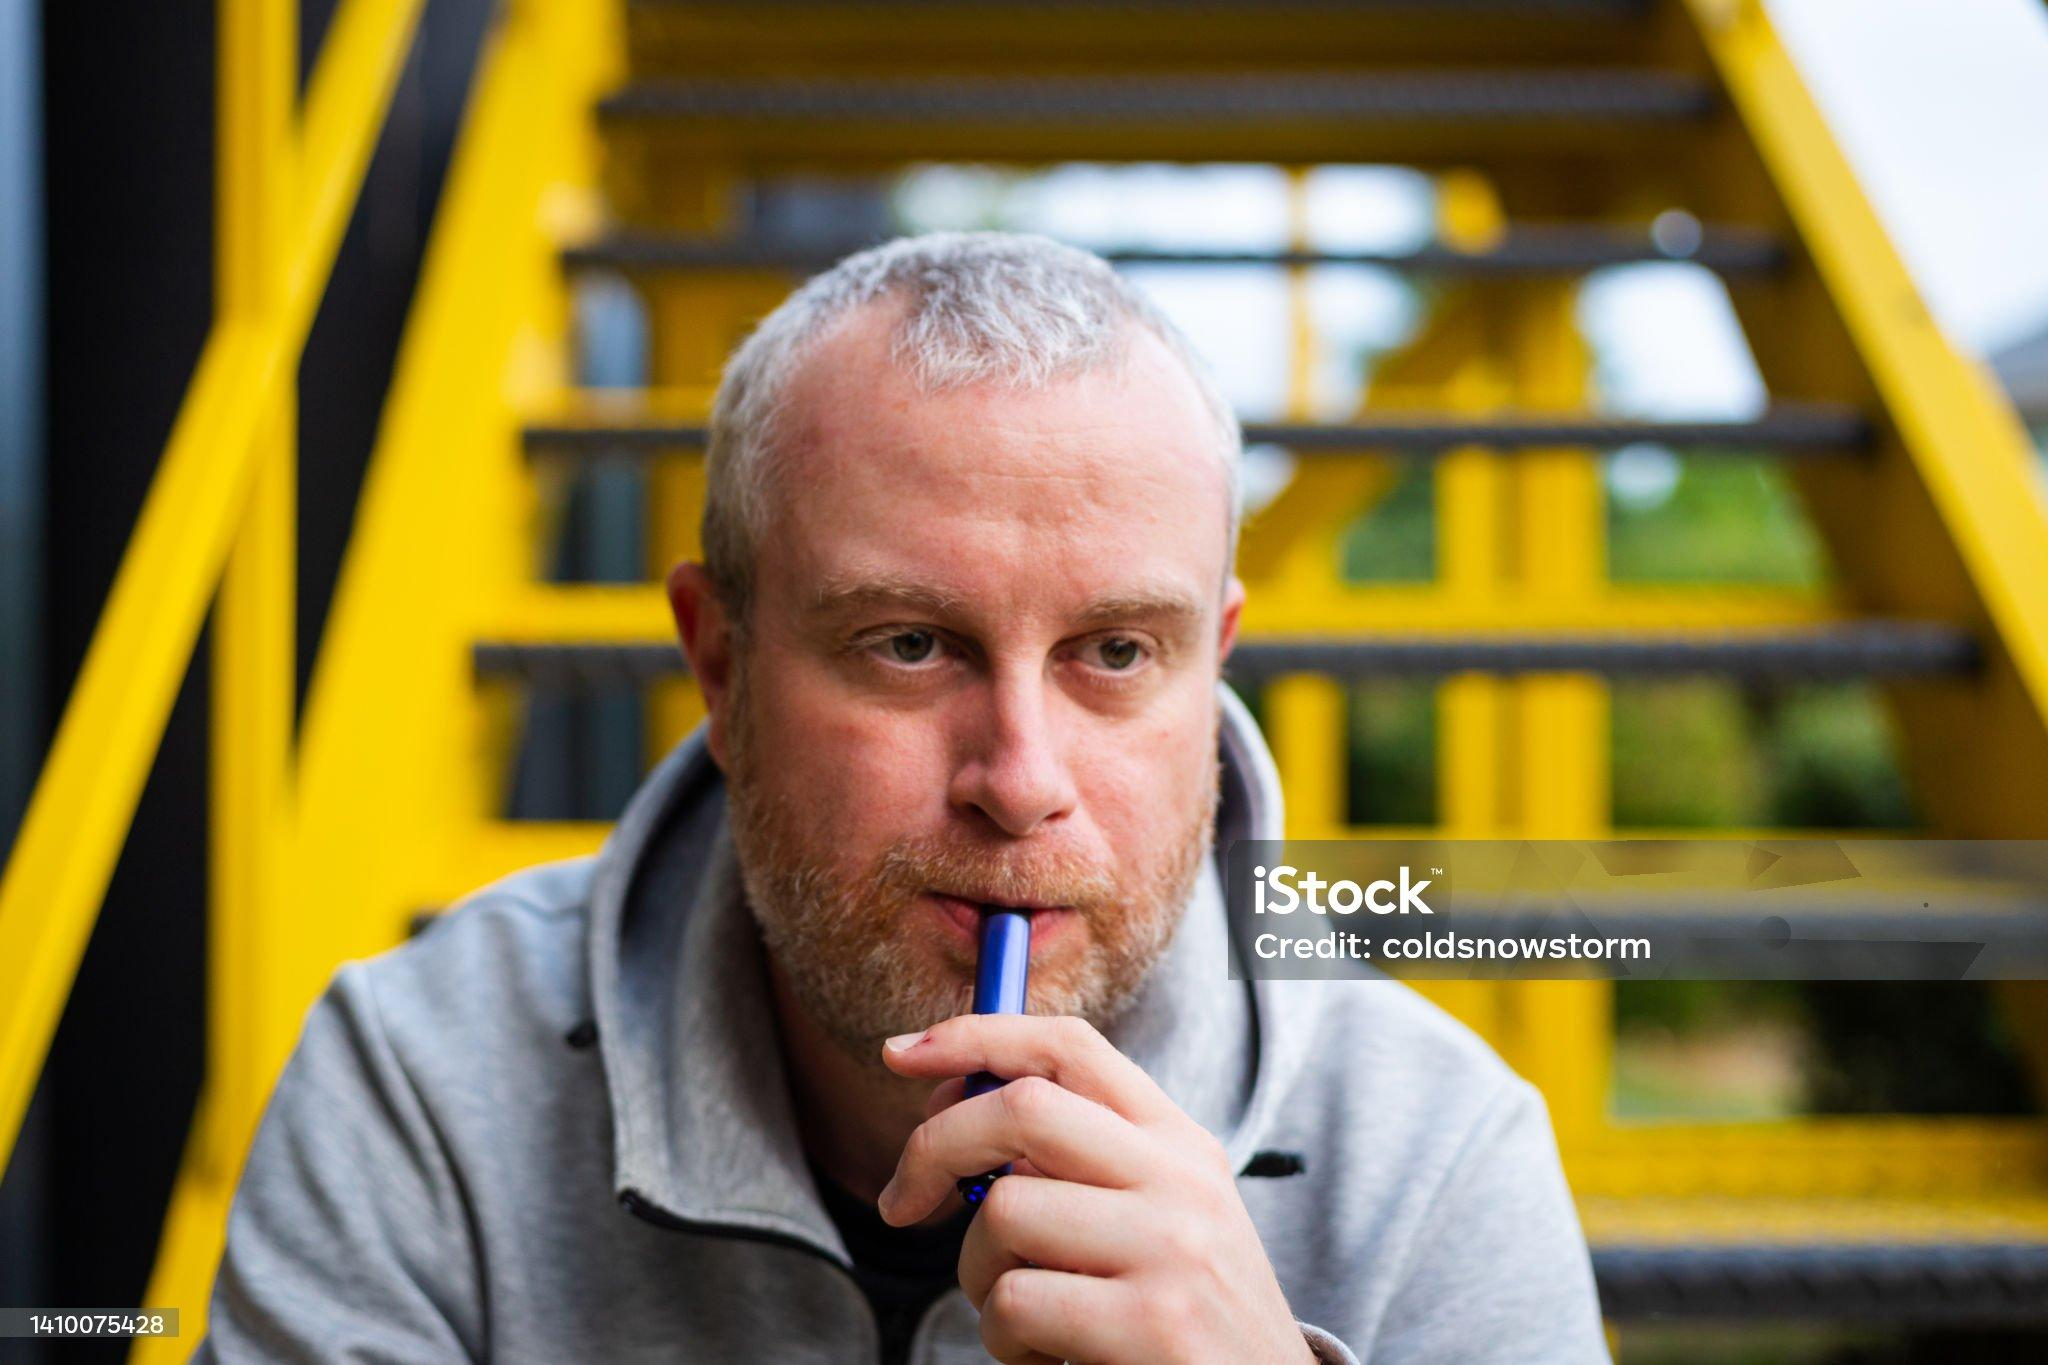Vape: (955, 905, 1037, 1207)
